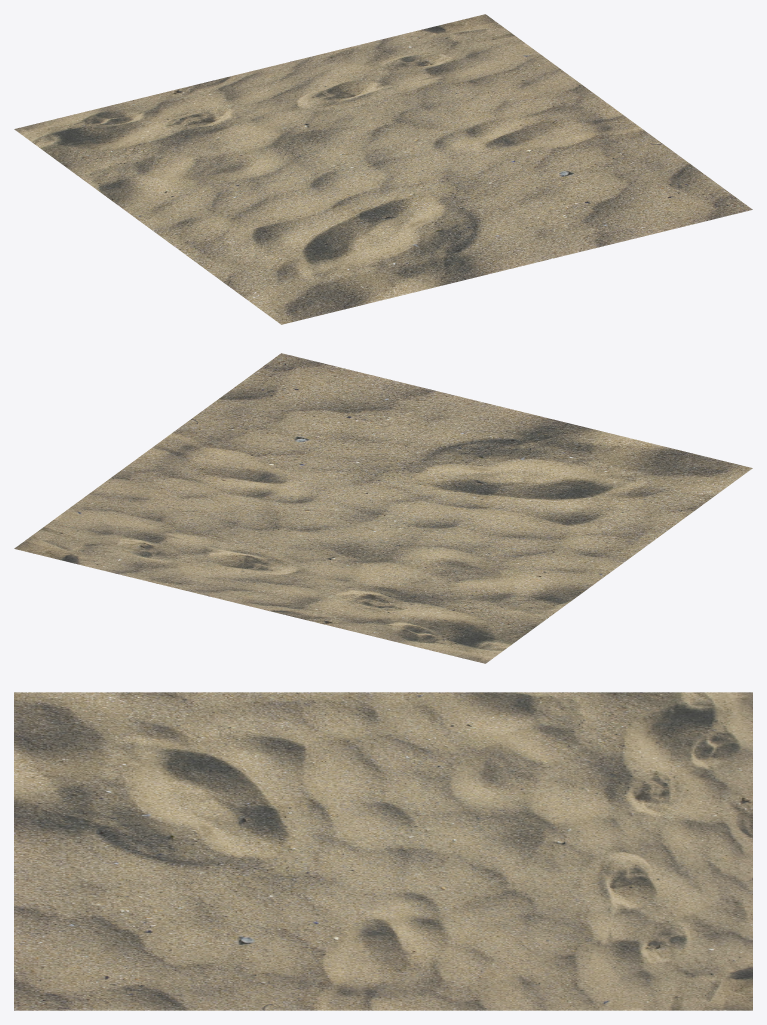
Rendered from sand.glb.
The picture shows the model from 3 angles, top to bottom: view 1: azimuth 30°, elevation 25°; view 2: azimuth 150°, elevation 25°; view 3: azimuth 270°, elevation 25°; orthographic projection. The views are drawn at different scales.
Parts seen in each view (by area): view 1: Object001_Object001_mtl_0; view 2: Object001_Object001_mtl_0; view 3: Object001_Object001_mtl_0.
Part boxes in pixels (x1,y1,x2,y2): Object001_Object001_mtl_0: (14, 14, 752, 324); Object001_Object001_mtl_0: (14, 353, 752, 663); Object001_Object001_mtl_0: (14, 692, 752, 1010).
Size of the model in its own units: 140 by 6.11e-14 by 138.
1 material, 1 textured.
